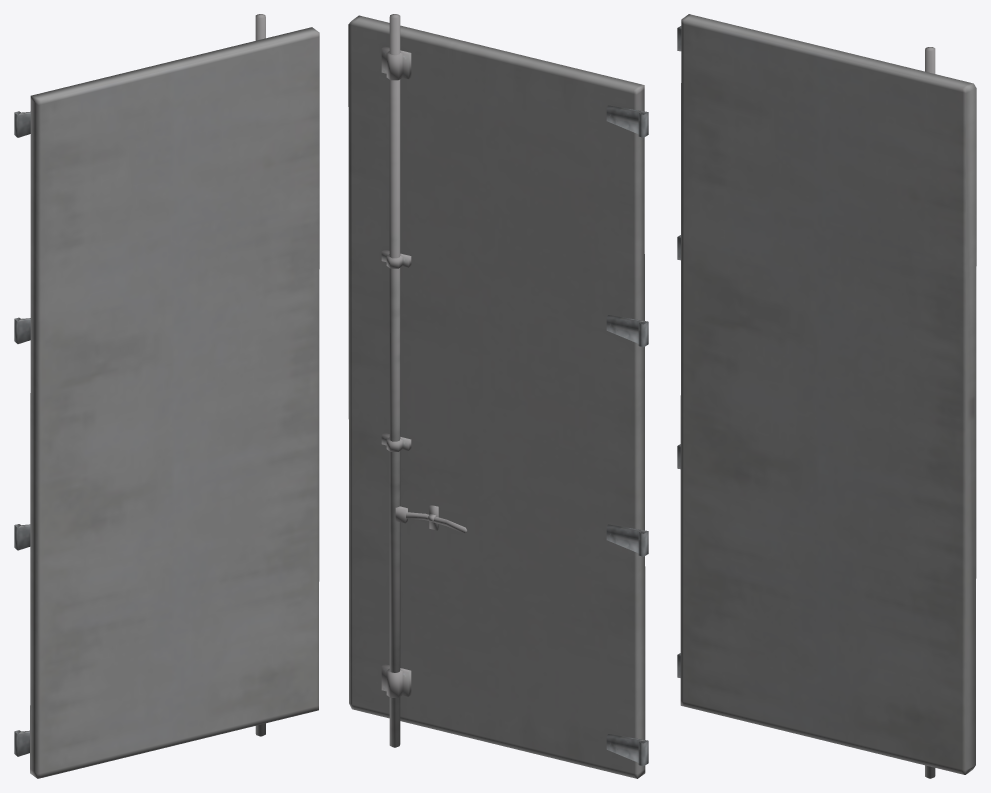
The model's file is truck_door_rr.obj.
The picture shows the model from 3 angles, left to right: view 1: azimuth 30°, elevation 25°; view 2: azimuth 150°, elevation 25°; view 3: azimuth 330°, elevation 25°; orthographic projection.
Visible parts, largest first — view 1: door_RR_05; view 2: door_RR_05; view 3: door_RR_05.
Part boxes in pixels (x1=…): door_RR_05: x1=14, y1=14, x2=319, y2=778; door_RR_05: x1=348, y1=14, x2=648, y2=778; door_RR_05: x1=677, y1=14, x2=976, y2=778.
Size of the model in its own units: 1.02 by 2.39 by 0.0949.
1 material, 1 textured.
